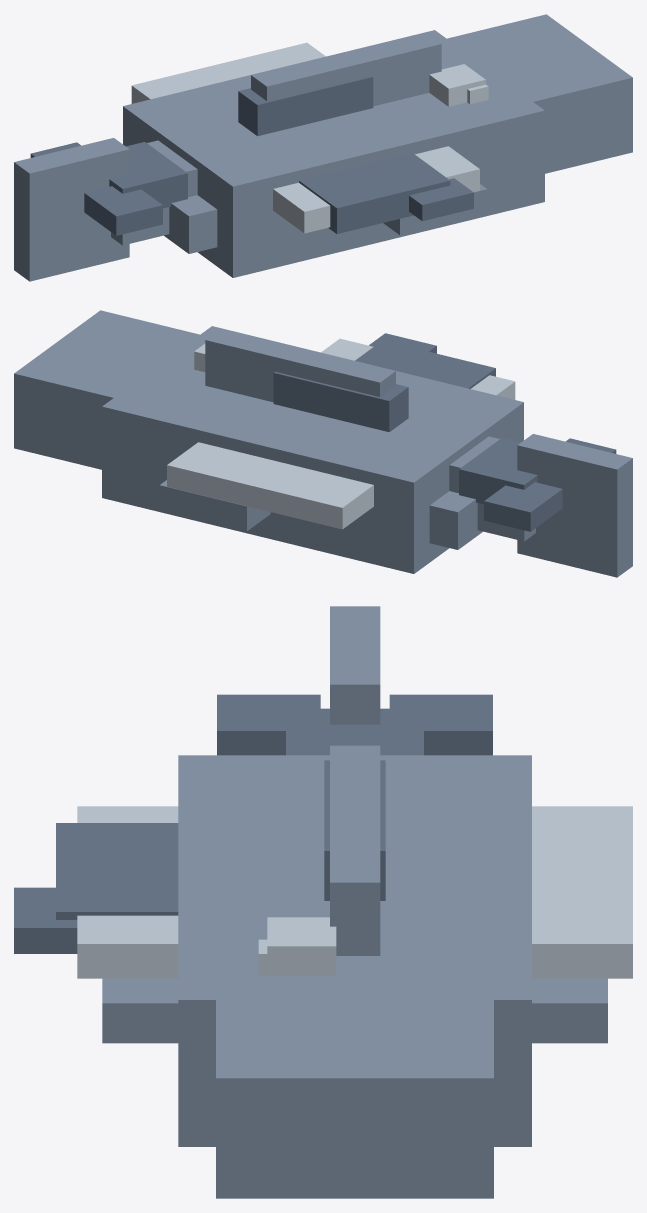
Rendered from fish_veil_skate.glb.
The picture shows the model from 3 angles, top to bottom: view 1: azimuth 30°, elevation 25°; view 2: azimuth 150°, elevation 25°; view 3: azimuth 270°, elevation 25°; orthographic projection. The views are drawn at different scales.
Visible parts, largest first — view 1: FishArt_body, FishArt_pectoral, FishArt_specialty, FishArt_tail, FishArt_dorsal, FishArt_eye; view 2: FishArt_body, FishArt_specialty, FishArt_tail, FishArt_dorsal, FishArt_pectoral; view 3: FishArt_body, FishArt_specialty, FishArt_pectoral, FishArt_tail, FishArt_eye, FishArt_dorsal.
Boxes of the visible parts, <box> form: FishArt_body: <box>14,14,632,281</box>; FishArt_pectoral: <box>299,153,473,233</box>; FishArt_specialty: <box>131,42,479,233</box>; FishArt_tail: <box>30,142,187,235</box>; FishArt_dorsal: <box>238,75,373,136</box>; FishArt_eye: <box>429,64,488,106</box>; FishArt_body: <box>14,310,632,577</box>; FishArt_specialty: <box>167,338,515,529</box>; FishArt_tail: <box>459,438,616,531</box>; FishArt_dorsal: <box>273,371,408,432</box>; FishArt_pectoral: <box>355,333,495,388</box>; FishArt_body: <box>102,606,607,1198</box>; FishArt_specialty: <box>77,806,632,978</box>; FishArt_pectoral: <box>14,823,178,953</box>; FishArt_tail: <box>217,694,492,755</box>; FishArt_eye: <box>258,917,336,975</box>; FishArt_dorsal: <box>324,760,385,900</box>.
Size of the model in its own units: 0.33 by 0.0762 by 0.1938.
